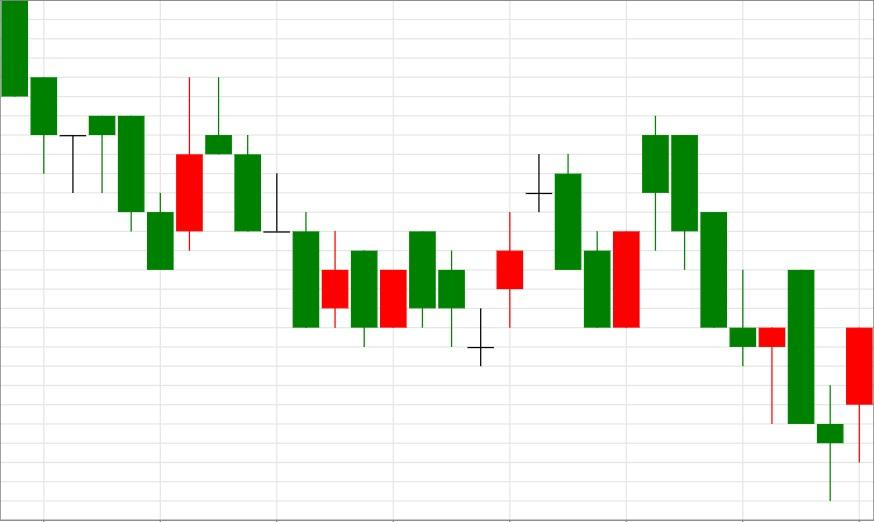bullish_engulfing_rise: (524, 152, 641, 330)
shooting_star_fall: (147, 76, 233, 270)
